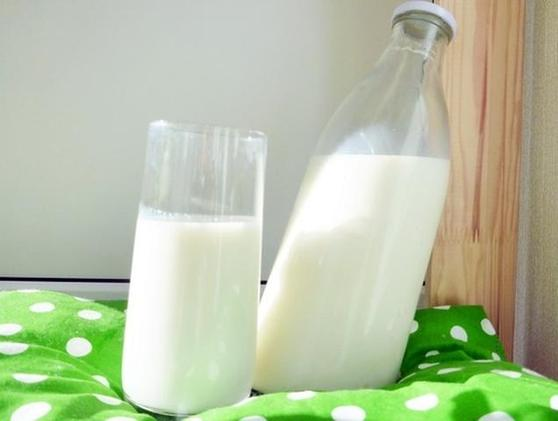milk: (260, 1, 469, 391)
